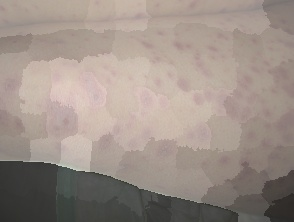SJS-TEN: (0, 9, 294, 195)
